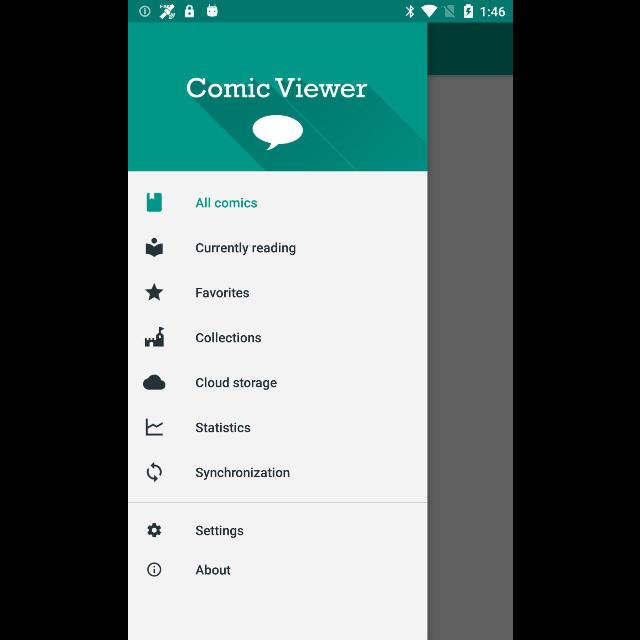icon: (142, 374, 166, 390), (144, 283, 164, 301), (146, 462, 162, 482), (146, 238, 162, 258), (146, 192, 162, 212), (147, 563, 161, 577), (147, 523, 161, 537)
image: (252, 115, 302, 152), (144, 327, 164, 348), (146, 418, 162, 436)
panel: (128, 23, 426, 639)
text: (186, 78, 367, 99), (195, 466, 289, 480), (195, 242, 295, 255), (196, 378, 276, 390), (196, 332, 260, 343), (195, 198, 257, 208), (195, 526, 243, 538), (194, 422, 250, 432), (196, 288, 248, 298), (194, 564, 230, 576)
uppertaskbar: (128, 1, 512, 23)
